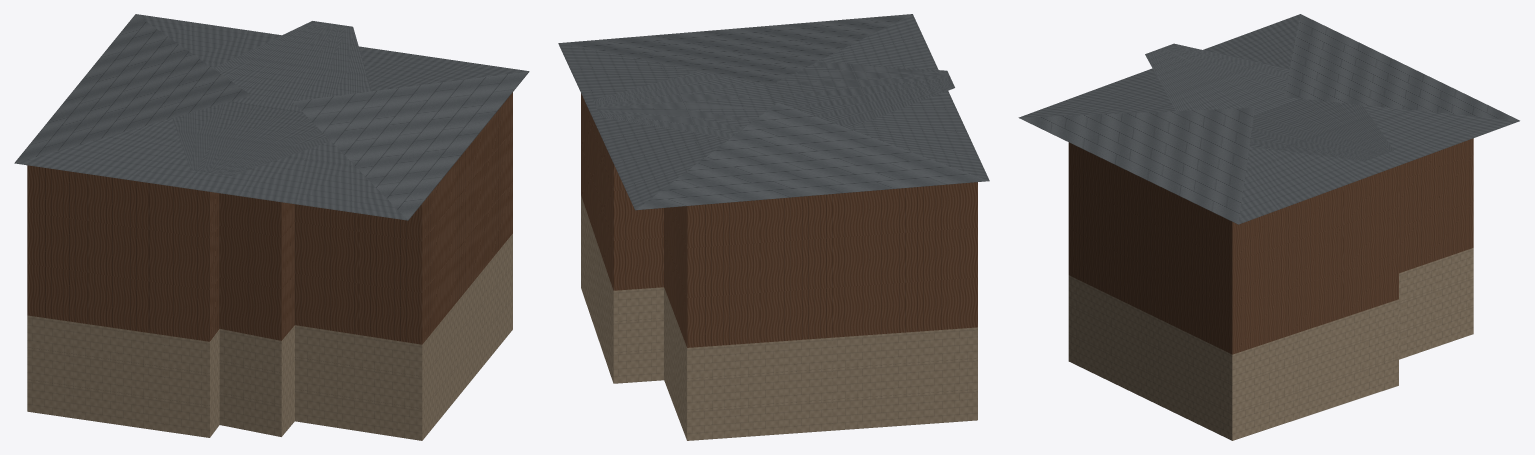
Rendered from bld_c8_8_491.gltf.
3 views of the same model, side by side, from view 1: azimuth 30°, elevation 25°; view 2: azimuth 150°, elevation 25°; view 3: azimuth 270°, elevation 25° (orthographic). The views are drawn at different scales.
Parts seen in each view (by area): view 1: bld_c8_8_491; view 2: bld_c8_8_491; view 3: bld_c8_8_491.
Part boxes in pixels (x1,y1,x2,y2): bld_c8_8_491: [14, 14, 529, 440]; bld_c8_8_491: [558, 14, 989, 440]; bld_c8_8_491: [1018, 14, 1519, 440].
Size of the model in its own units: 26.68 by 14.3 by 26.89.
3 materials, 3 textured.
